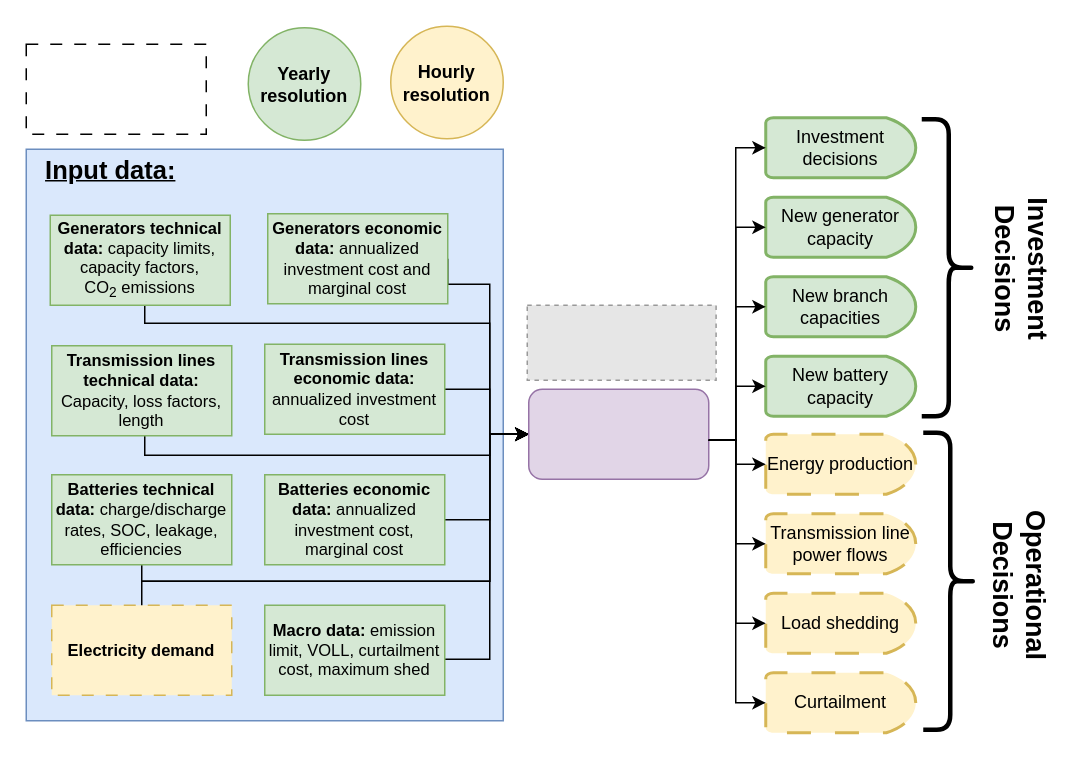
The diagram is 1079 pixels wide and 761 high, and some of its shapes have lost their labels. Grey dashed boxes stand in for pictures. The shapes that lost their labels are listed below. From the top down, each one's centre as x and y in pixels, then its label:
[115,88]: Dashed border means scenario-dependent
[618,433]: Stochastic Optimization Model
